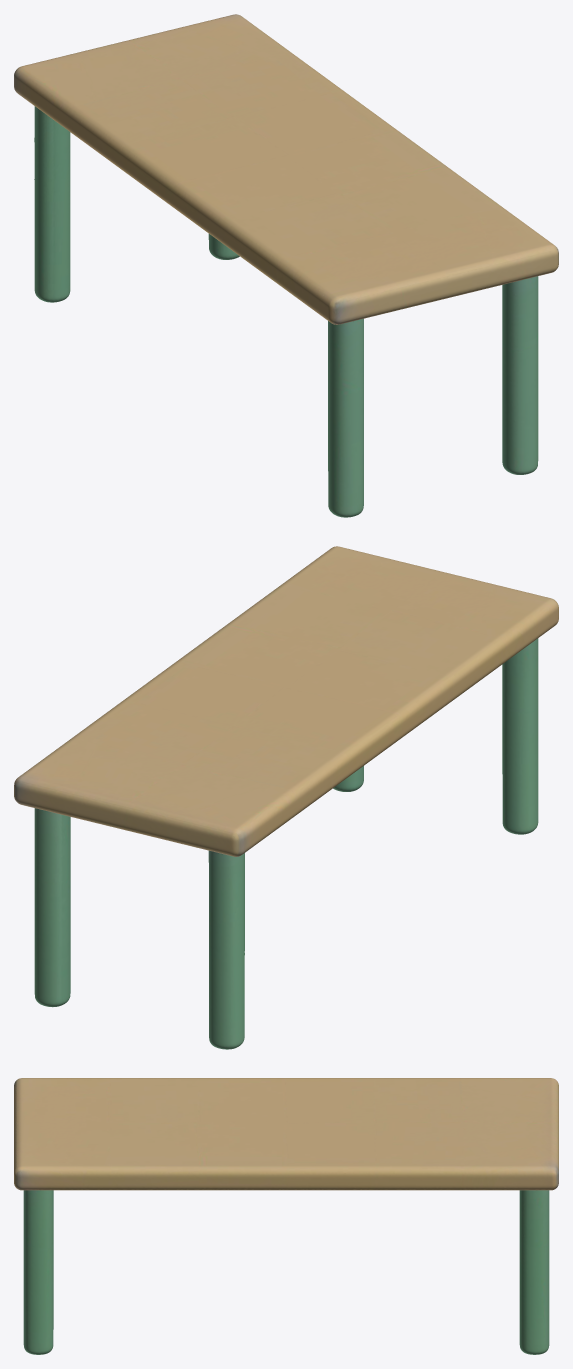
The model's file is ShelterTable.glb.
3 views of the same model, one above another, from view 1: azimuth 30°, elevation 25°; view 2: azimuth 150°, elevation 25°; view 3: azimuth 270°, elevation 25° (orthographic). The views are drawn at different scales.
Parts seen in each view (by area): view 1: tripo_node_51c88415-b3e2-412f-a965-3b005d693f18; view 2: tripo_node_51c88415-b3e2-412f-a965-3b005d693f18; view 3: tripo_node_51c88415-b3e2-412f-a965-3b005d693f18.
Boxes of the visible parts, x1,y1,x2,y2 form: tripo_node_51c88415-b3e2-412f-a965-3b005d693f18: (14,14,558,517); tripo_node_51c88415-b3e2-412f-a965-3b005d693f18: (14,546,558,1049); tripo_node_51c88415-b3e2-412f-a965-3b005d693f18: (14,1078,558,1354).
Bounding box in the file's own units: 0.4096 × 0.3917 × 1.
Materials: 1 (1 with a texture image).
